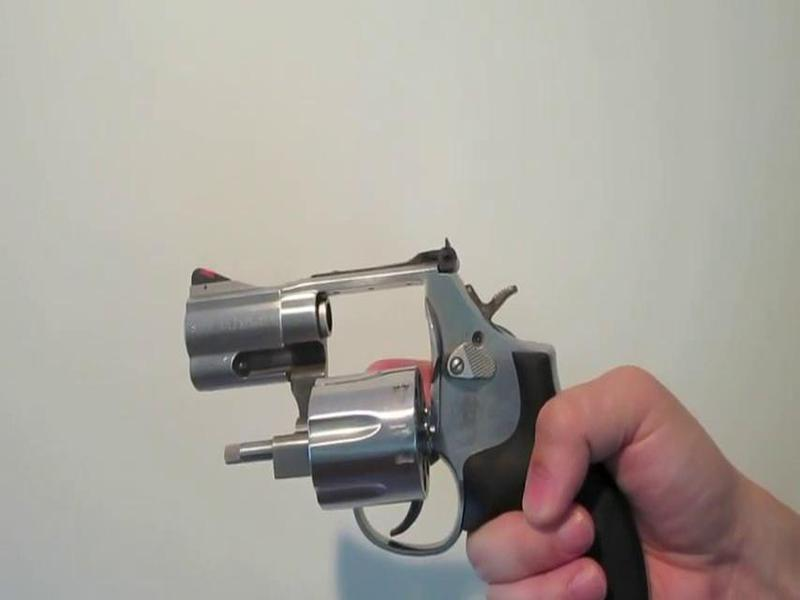Revolver: (163, 232, 678, 600)
